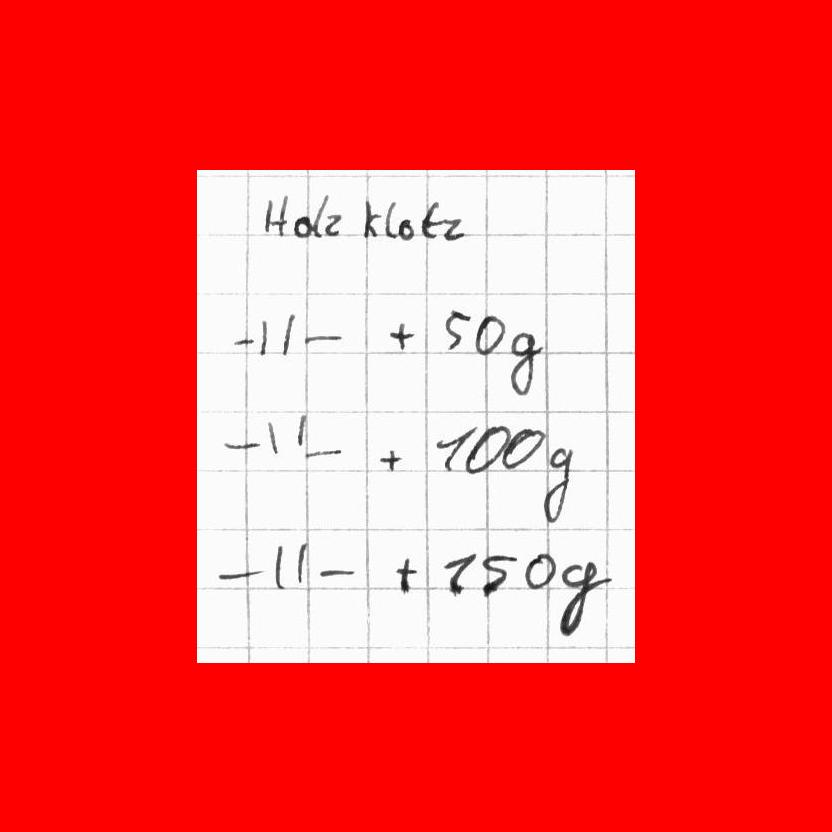Char: (554, 555, 613, 639), (540, 442, 575, 526), (507, 330, 545, 398), (464, 425, 510, 473), (435, 422, 476, 473), (475, 552, 520, 597), (497, 427, 542, 471), (440, 551, 478, 596), (473, 313, 507, 360), (521, 550, 557, 592), (263, 191, 290, 239), (442, 305, 469, 350), (393, 554, 419, 594), (420, 200, 443, 241), (361, 196, 382, 239), (271, 540, 290, 587), (389, 320, 415, 351), (312, 192, 329, 238), (213, 567, 265, 582), (280, 311, 297, 356), (294, 540, 311, 585), (264, 418, 284, 456), (442, 213, 468, 242), (324, 210, 349, 237), (378, 447, 405, 472), (315, 565, 360, 579), (384, 198, 399, 239), (258, 315, 273, 356), (299, 447, 349, 459), (303, 330, 344, 344), (293, 411, 309, 446), (292, 214, 313, 239), (220, 438, 259, 451), (232, 331, 256, 350), (397, 216, 415, 241)
